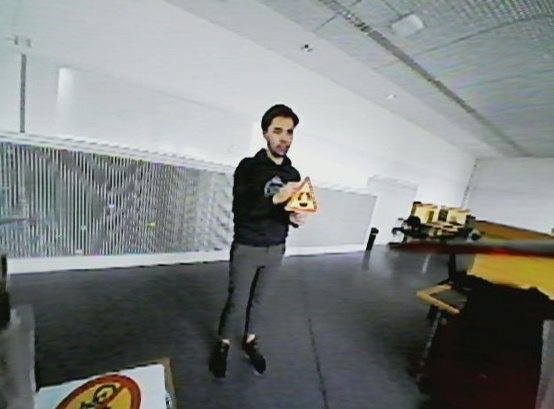roundabout_warning: (281, 172, 323, 217)
